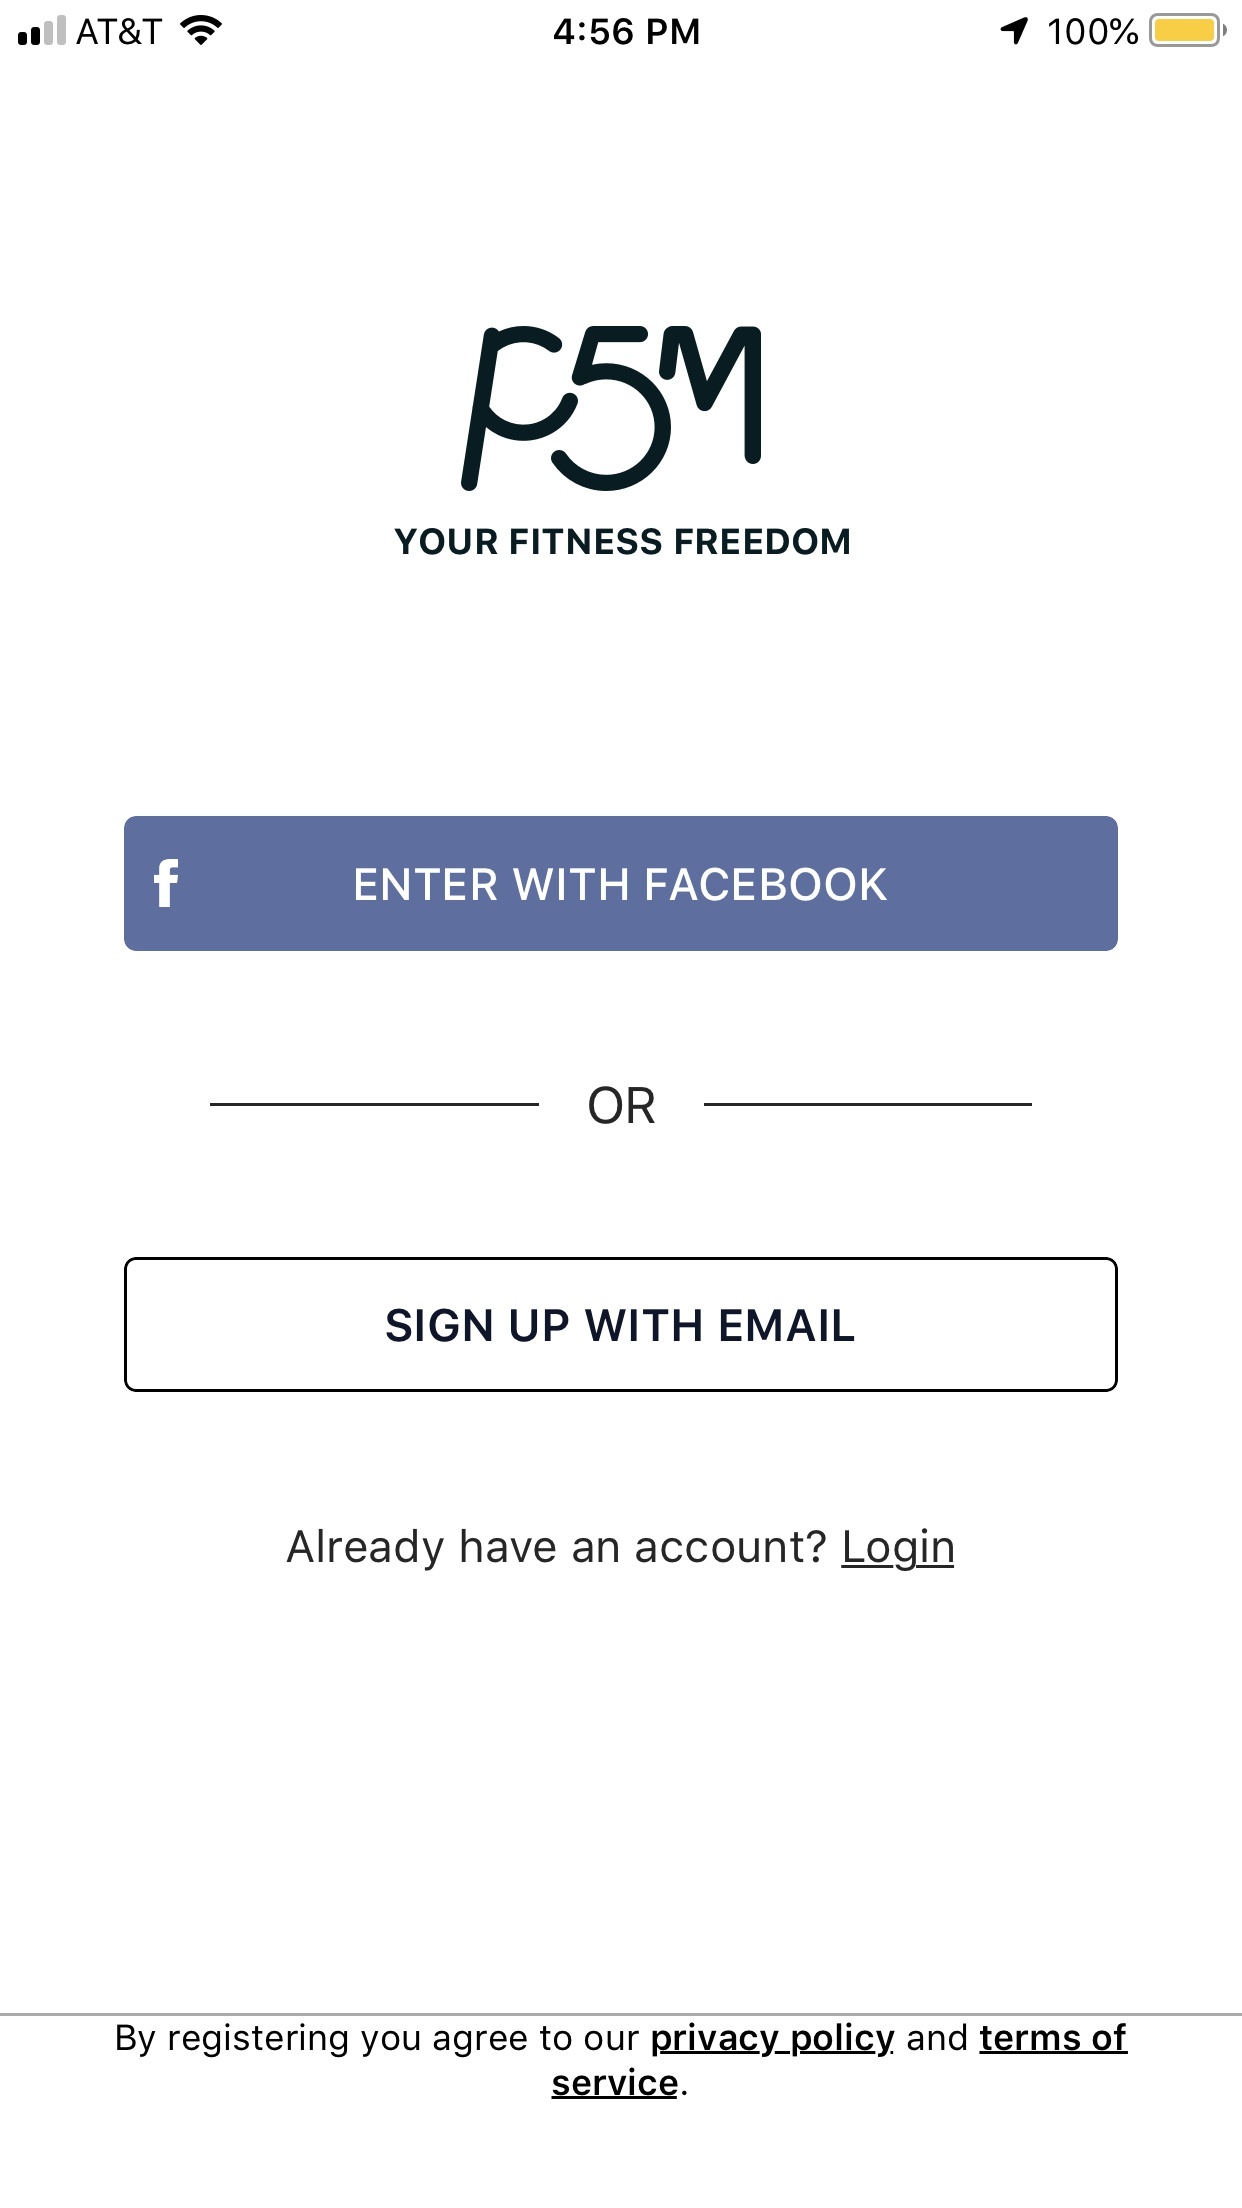Image: (463, 325, 764, 493)
Text: (117, 2021, 1128, 2100), (287, 1527, 955, 1573), (394, 528, 851, 557), (588, 1084, 657, 1125)
TextButton: (124, 1256, 1119, 1394), (124, 816, 1119, 952)
UpperTaskBar: (2, 2, 1242, 49)
